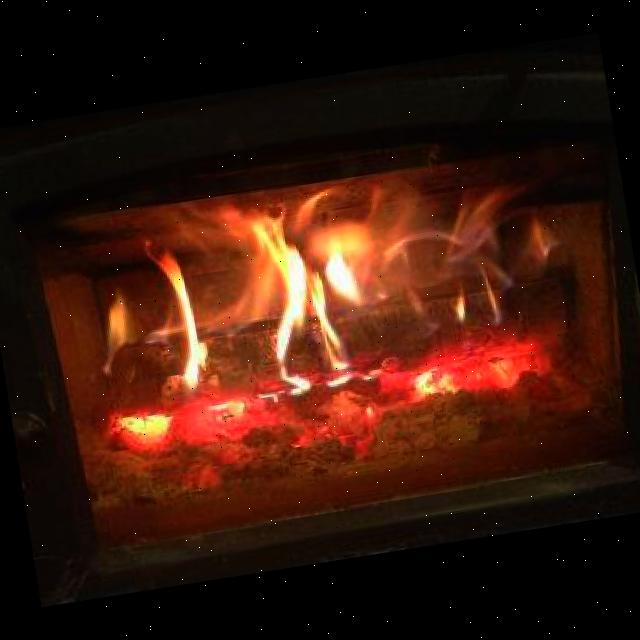fire: (69, 144, 576, 488)
